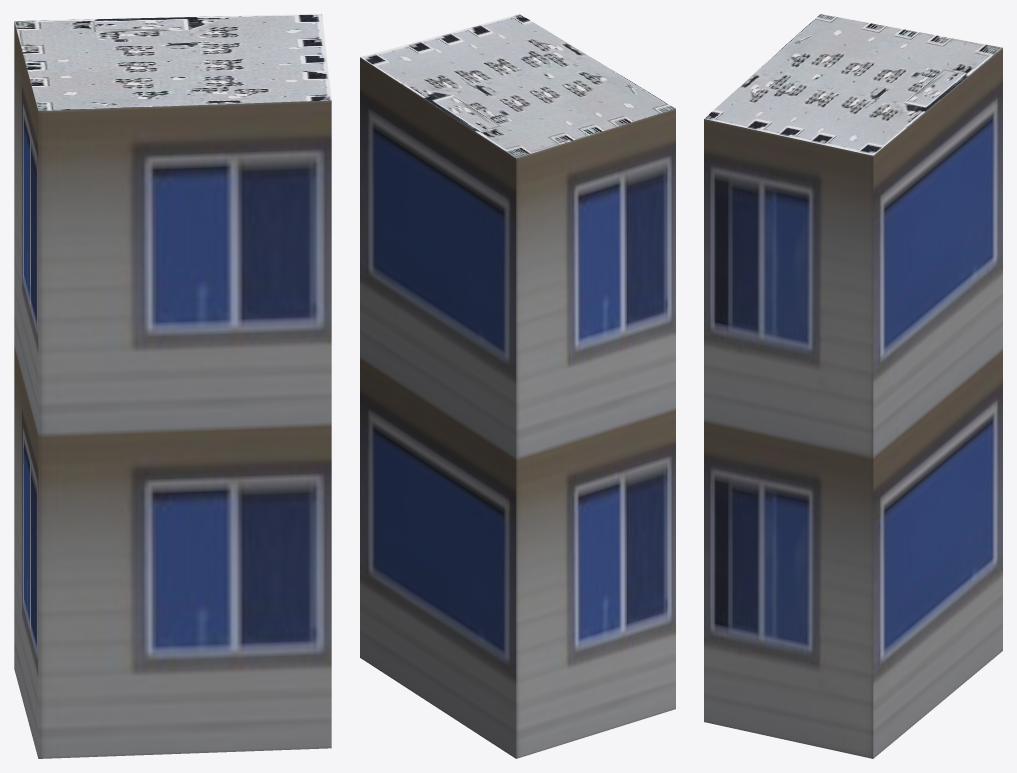
File: ResTex__2541.fbx
3 renders of one model, left to right at view 1: azimuth 30°, elevation 25°; view 2: azimuth 150°, elevation 25°; view 3: azimuth 270°, elevation 25°, orthographic. The views are drawn at different scales.
Visible parts, largest first — view 1: CityEngineMaterial_23_m, CityEngineMaterial_4_m; view 2: CityEngineMaterial_23_m, CityEngineMaterial_4_m; view 3: CityEngineMaterial_23_m, CityEngineMaterial_4_m.
Boxes of the visible parts, x1,y1,x2,y2 form: CityEngineMaterial_23_m: (14,22,331,758); CityEngineMaterial_4_m: (14,14,331,110); CityEngineMaterial_23_m: (360,57,675,758); CityEngineMaterial_4_m: (360,14,675,158); CityEngineMaterial_23_m: (704,48,1002,758); CityEngineMaterial_4_m: (704,14,1002,155).
Size of the model in its own units: 3.03 by 6 by 2.7.
Materials: 2 (2 with a texture image).
